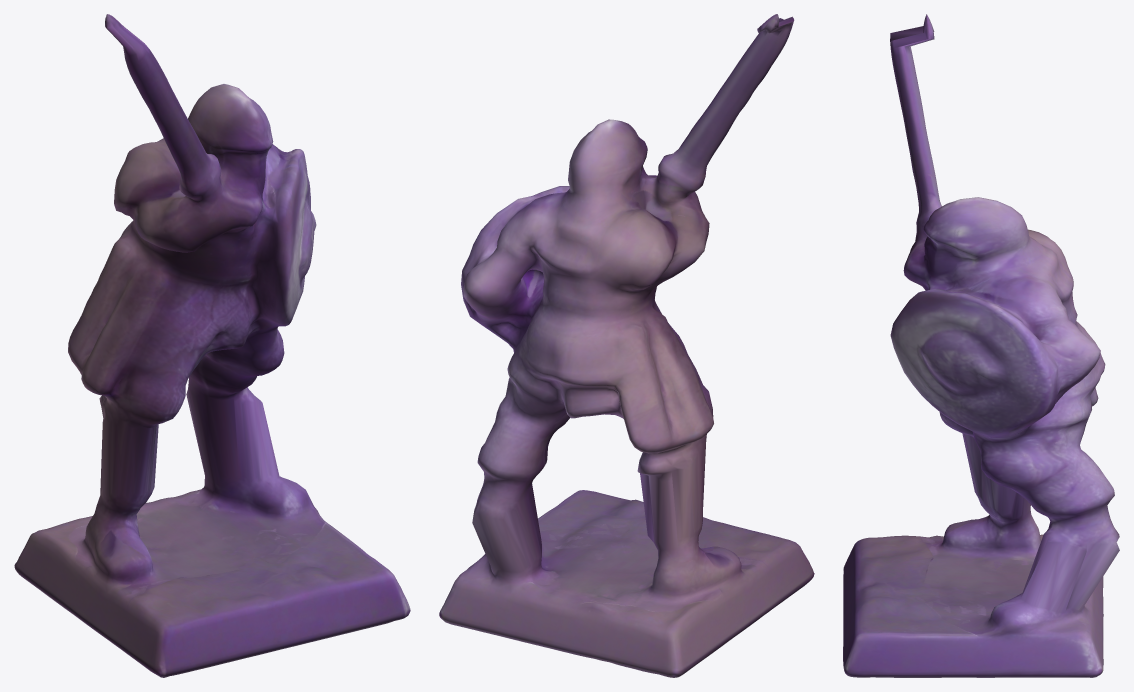
File: ranger.glb
3 views of the same model, side by side, from view 1: azimuth 30°, elevation 25°; view 2: azimuth 150°, elevation 25°; view 3: azimuth 270°, elevation 25° (orthographic). The views are drawn at different scales.
Parts seen in each view (by area): view 1: Mesh_0; view 2: Mesh_0; view 3: Mesh_0.
Part boxes in pixels (x1,y1,x2,y2): Mesh_0: [14, 14, 410, 677]; Mesh_0: [439, 14, 814, 677]; Mesh_0: [843, 14, 1119, 677].
Size of the model in its own units: 0.9805 by 2.23 by 1.01.
Materials: 1 (1 with a texture image).
